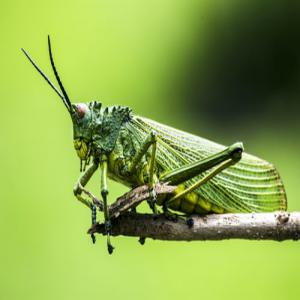locust: (29, 49, 296, 257)
